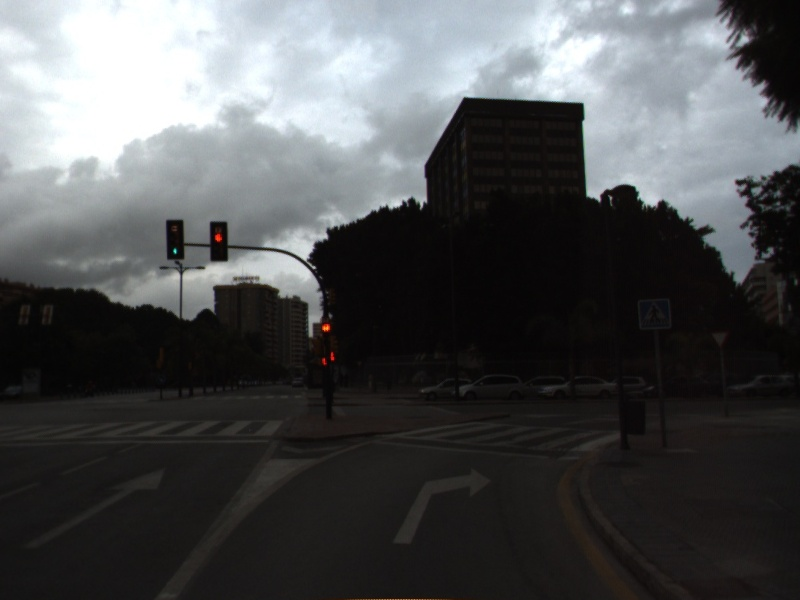RIGHT: (388, 463, 497, 547)
STRAIGHT: (20, 461, 170, 551)
